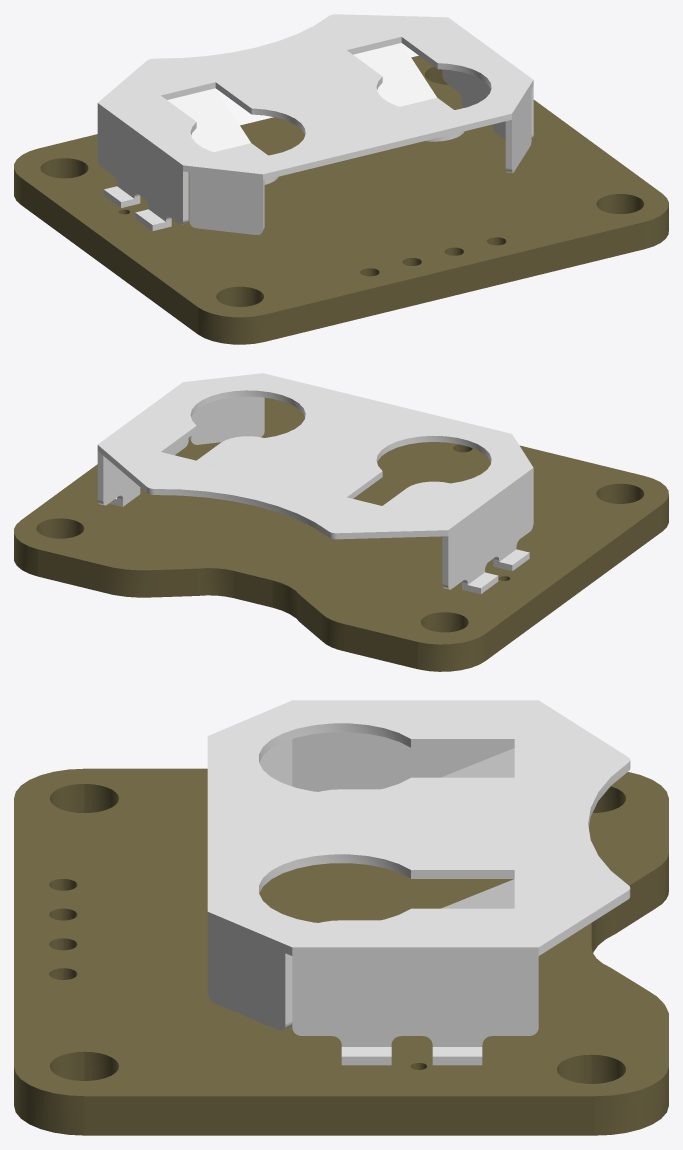
File: ada-1870.glb
3 renders of one model, top to bottom at view 1: azimuth 30°, elevation 25°; view 2: azimuth 150°, elevation 25°; view 3: azimuth 270°, elevation 25°, orthographic. The views are drawn at different scales.
Parts seen in each view (by area): view 1: 0.16666666666666666_0.16666666666666666_0.08333333333333333_, 0.9166666666666666_0.9166666666666666_0.9166666666666666_0.8; view 2: 0.16666666666666666_0.16666666666666666_0.08333333333333333_, 0.9166666666666666_0.9166666666666666_0.9166666666666666_0.8; view 3: 0.16666666666666666_0.16666666666666666_0.08333333333333333_, 0.9166666666666666_0.9166666666666666_0.9166666666666666_0.8.
Boxes of the visible parts, bbox=[...] form: 0.16666666666666666_0.16666666666666666_0.08333333333333333_: bbox=[14, 55, 668, 344]; 0.9166666666666666_0.9166666666666666_0.9166666666666666_0.8: bbox=[97, 14, 533, 234]; 0.16666666666666666_0.16666666666666666_0.08333333333333333_: bbox=[14, 397, 668, 671]; 0.9166666666666666_0.9166666666666666_0.9166666666666666_0.8: bbox=[97, 373, 533, 594]; 0.16666666666666666_0.16666666666666666_0.08333333333333333_: bbox=[14, 768, 668, 1135]; 0.9166666666666666_0.9166666666666666_0.9166666666666666_0.8: bbox=[207, 700, 630, 1065].
Size of the model in its own units: 2.79 by 0.5889 by 2.36.
